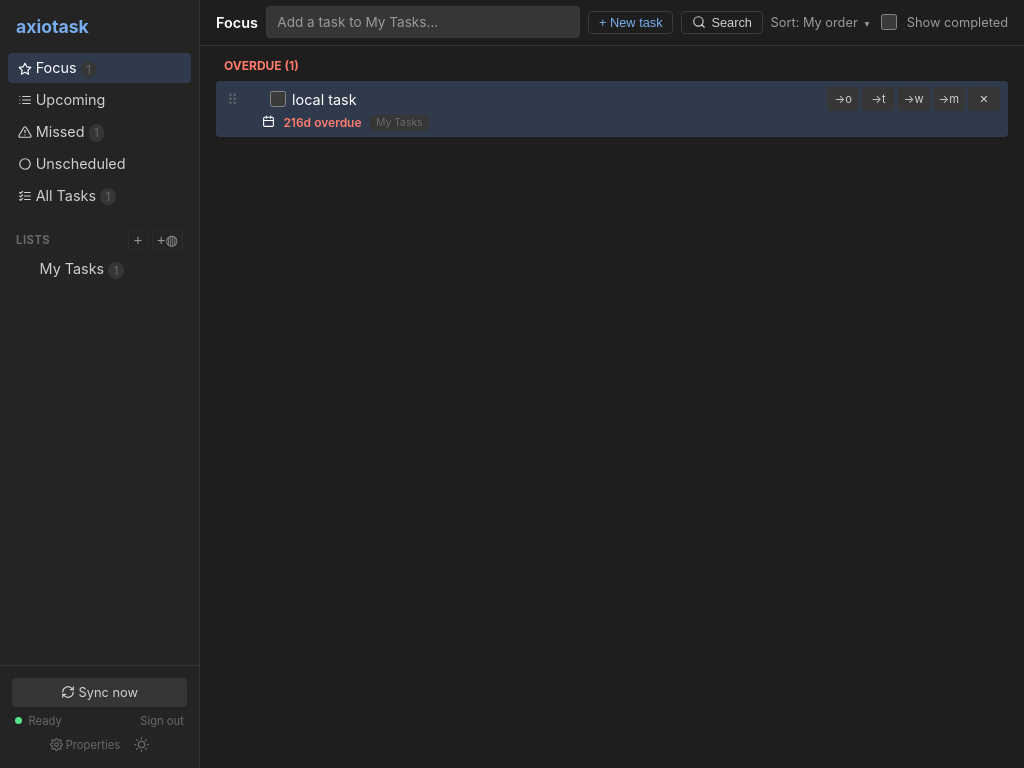
Auth recovery UX › a failed manual sync never hides the task list
Expected: the text "local task" is shown, top-left (292, 91), bottom-right (357, 108)
Click the button "Sync now": (100, 693) top-left (12, 678), bottom-right (187, 707)
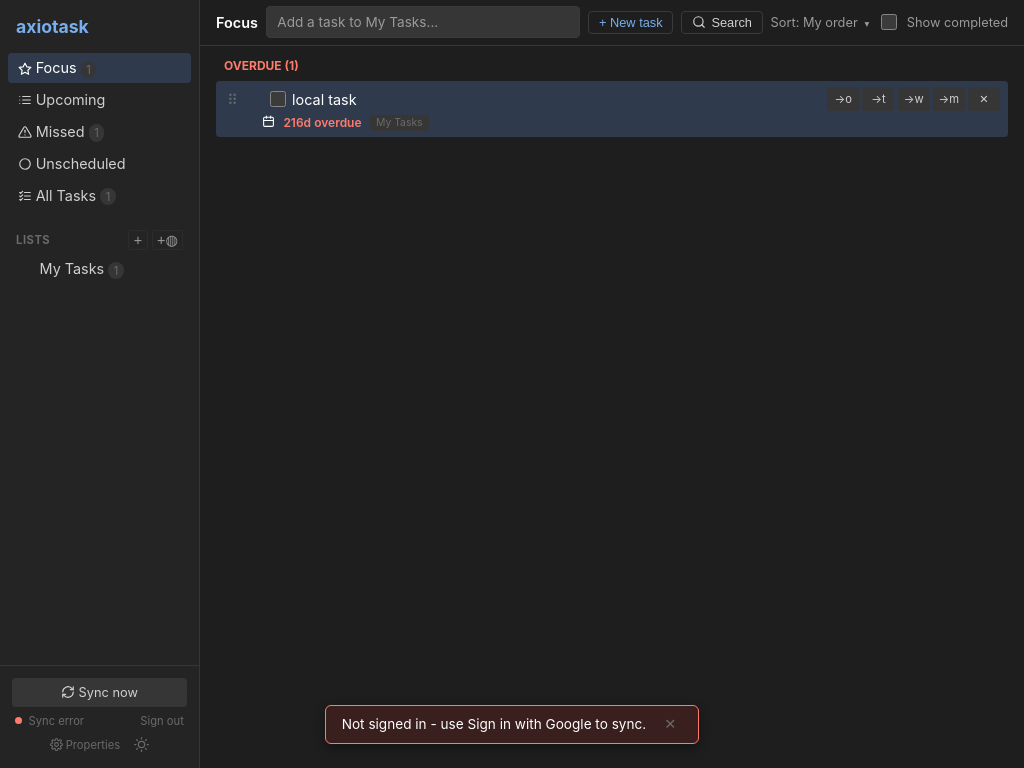
Expected: the text "local task" is shown, top-left (292, 91), bottom-right (357, 108)
Now the text "Not signed in - use Sign in with Google to sync." is shown, box top-left (342, 716), bottom-right (646, 732)
